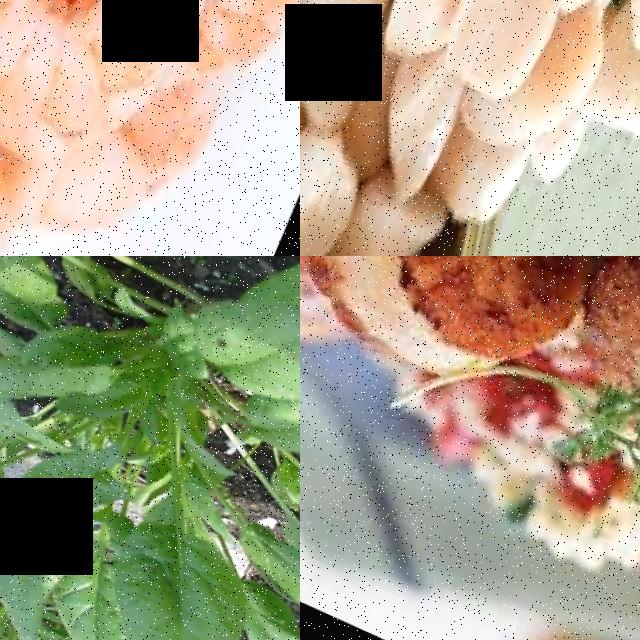sea scallops: (300, 256, 607, 404), (423, 0, 586, 115), (300, 0, 406, 133), (300, 118, 373, 256)
shrimp: (0, 0, 252, 206), (164, 0, 300, 126)
spinach: (86, 515, 265, 640), (189, 256, 300, 408), (45, 551, 125, 628), (235, 380, 300, 471), (0, 256, 80, 328), (0, 527, 67, 606), (275, 502, 300, 585)
